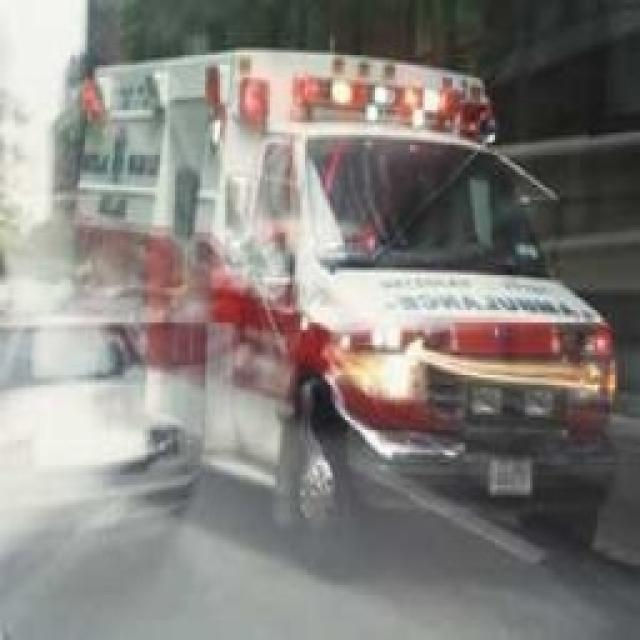emergency-vehicle: (79, 46, 612, 576)
